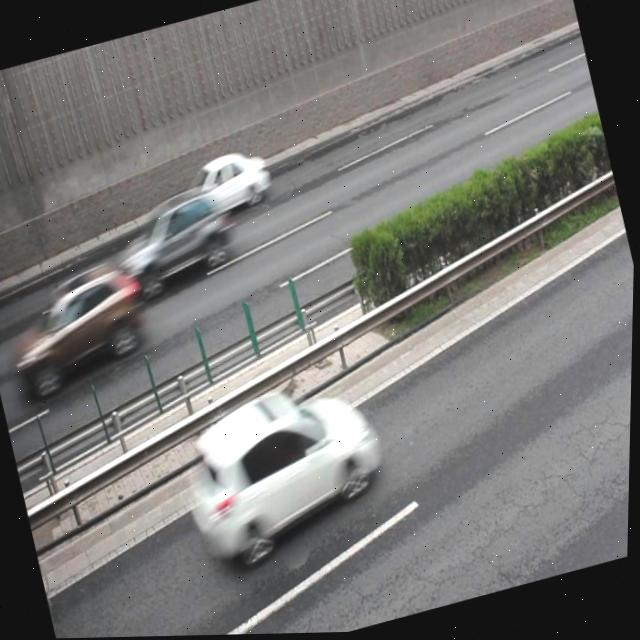car: (168, 369, 401, 571), (0, 254, 159, 401), (108, 179, 239, 298), (179, 143, 278, 225)
